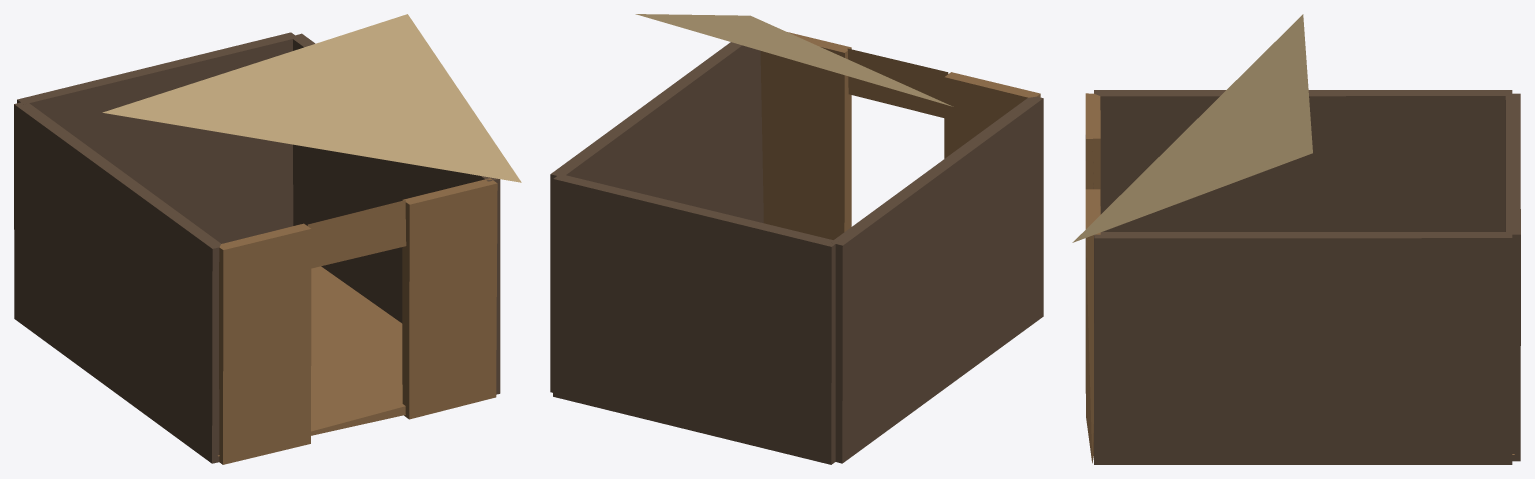
The model's file is harbor-beach-hut.lod2.glb.
3 views of the same model, side by side, from view 1: azimuth 30°, elevation 25°; view 2: azimuth 150°, elevation 25°; view 3: azimuth 270°, elevation 25° (orthographic). The views are drawn at different scales.
Parts seen in each view (by area): view 1: harbor-beach-hut__body, harbor-beach-hut__front-wall, harbor-beach-hut__roof; view 2: harbor-beach-hut__body, harbor-beach-hut__front-wall, harbor-beach-hut__roof; view 3: harbor-beach-hut__body, harbor-beach-hut__roof, harbor-beach-hut__front-wall.
Part boxes in pixels (x1,y1,x2,y2): harbor-beach-hut__body: (14, 32, 500, 463); harbor-beach-hut__front-wall: (219, 178, 497, 464); harbor-beach-hut__roof: (102, 14, 521, 182); harbor-beach-hut__body: (550, 42, 1043, 464); harbor-beach-hut__front-wall: (760, 32, 1040, 239); harbor-beach-hut__roof: (635, 14, 953, 106); harbor-beach-hut__body: (1094, 90, 1520, 464); harbor-beach-hut__roof: (1072, 14, 1312, 242); harbor-beach-hut__front-wall: (1085, 93, 1100, 463).
Bounding box in the file's own units: 4.5 × 4.2 × 5.34.
